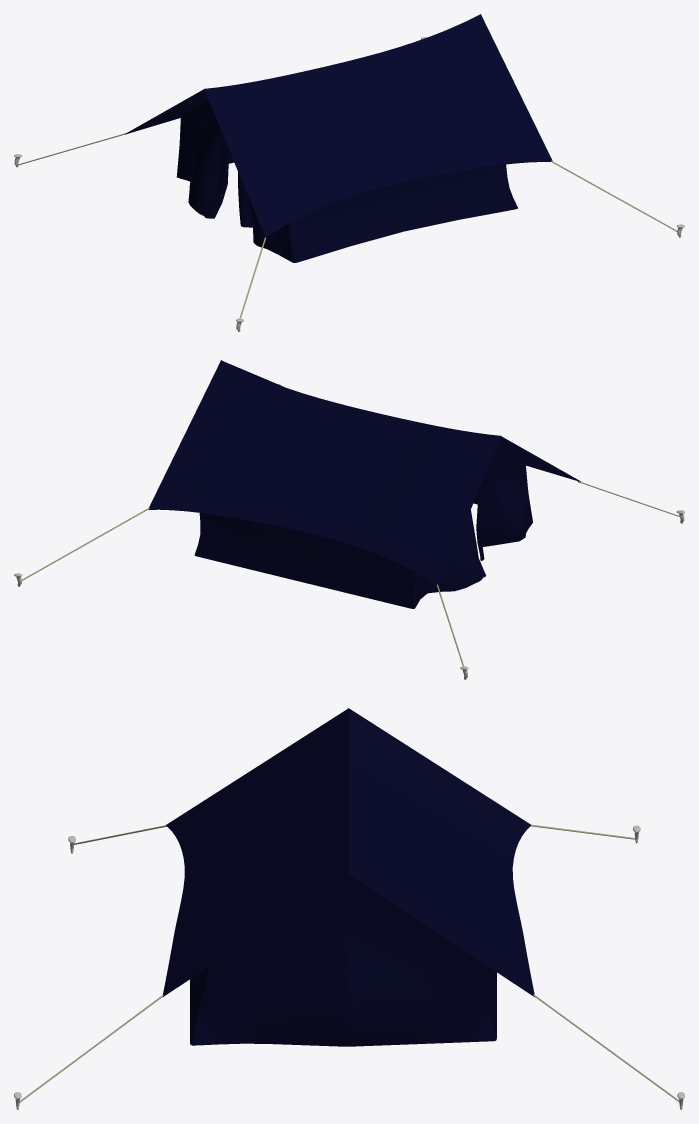
The model's file is Tent.fbx.
3 renders of one model, top to bottom at view 1: azimuth 30°, elevation 25°; view 2: azimuth 150°, elevation 25°; view 3: azimuth 270°, elevation 25°, orthographic. The views are drawn at different scales.
Visible parts, largest first — view 1: Tent; view 2: Tent; view 3: Tent.
Part boxes in pixels (x1,y1,x2,y2): Tent: [14, 14, 684, 331]; Tent: [14, 360, 684, 679]; Tent: [14, 708, 684, 1109].
Size of the model in its own units: 530 by 181 by 550.
